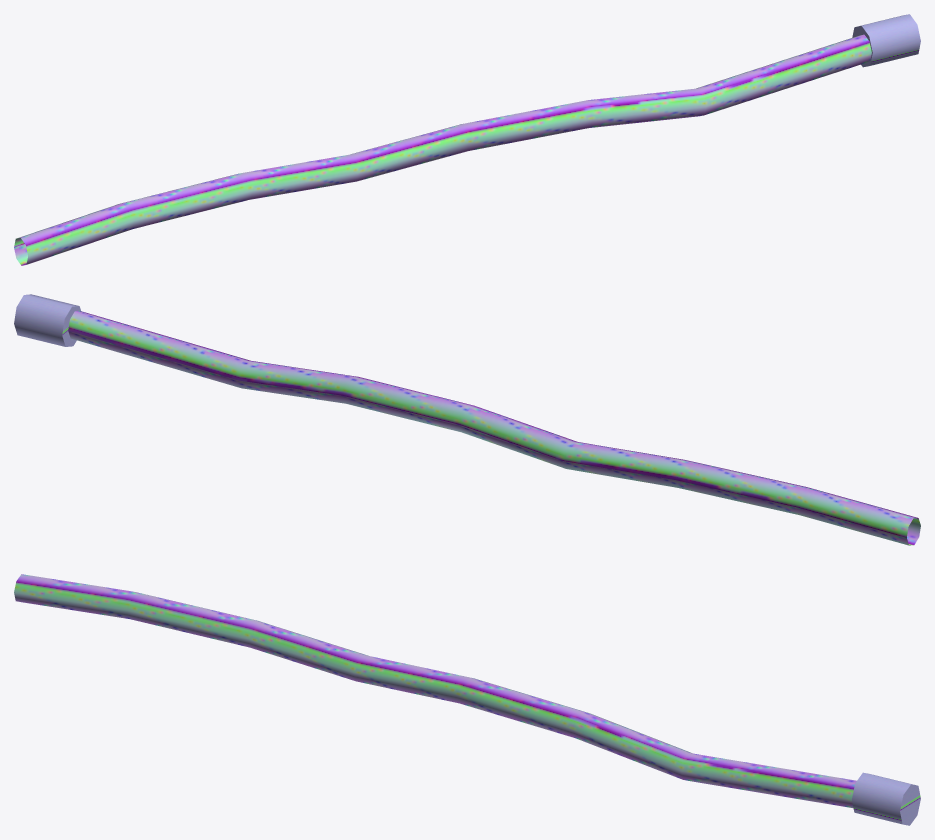
The model's file is LitCableA1.fbx.
3 views of the same model, one above another, from view 1: azimuth 30°, elevation 25°; view 2: azimuth 150°, elevation 25°; view 3: azimuth 330°, elevation 25° (orthographic).
Parts seen in each view (by area): view 1: LitCableA1; view 2: LitCableA1; view 3: LitCableA1.
Boxes of the visible parts, x1,y1,x2,y2 form: LitCableA1: (14,14,920,265); LitCableA1: (14,294,920,545); LitCableA1: (14,574,920,825).
Bounding box in the file's own units: 106 × 5.09 × 5.03.
1 material, 1 textured.
